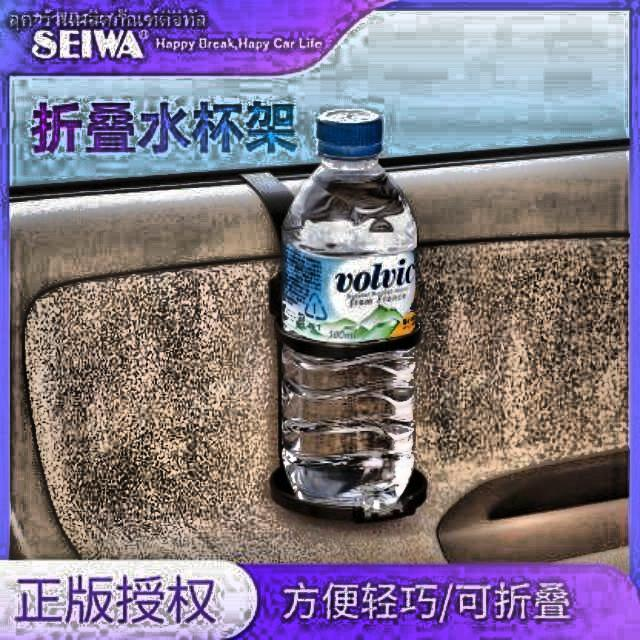Bottles: (263, 90, 430, 520)
